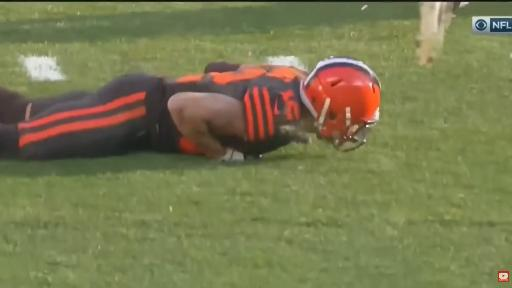Helmet: (301, 58, 380, 151)
Jersey: (163, 66, 305, 155)
Player: (0, 58, 380, 159), (0, 87, 93, 123)
